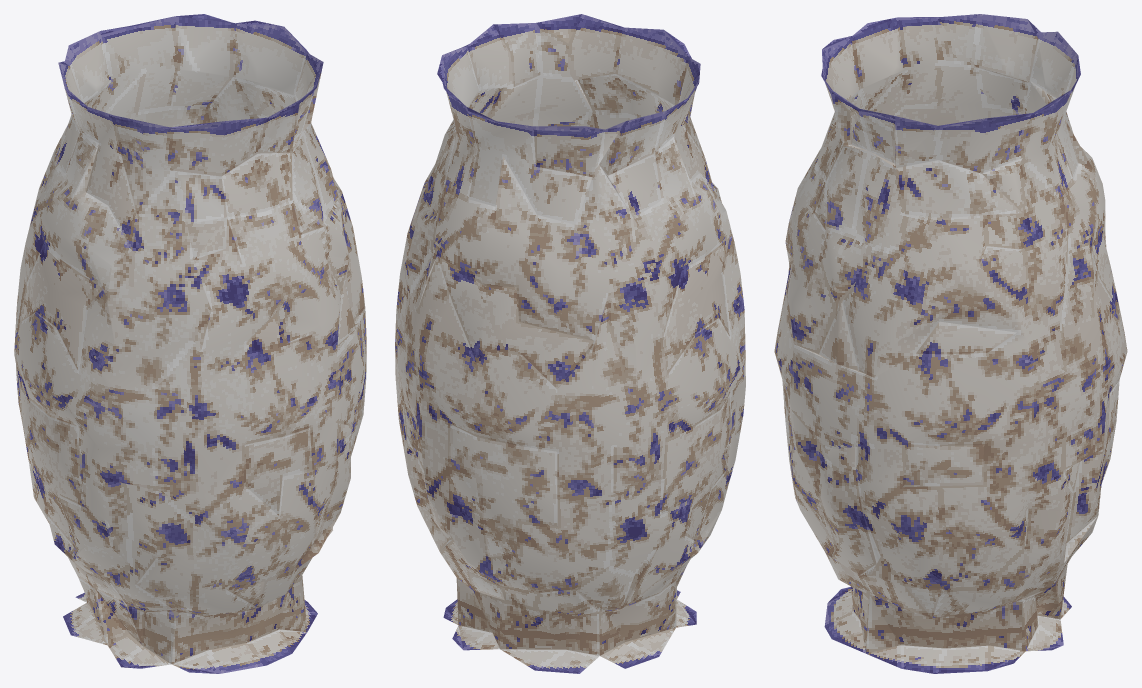
The model's file is antique_ceramic_vase_01.glb.
3 renders of one model, left to right at view 1: azimuth 30°, elevation 25°; view 2: azimuth 150°, elevation 25°; view 3: azimuth 270°, elevation 25°, orthographic.
Parts seen in each view (by area): view 1: mesh; view 2: mesh; view 3: mesh.
Part boxes in pixels (left/top/right/bottom): mesh: left=14, top=14, right=366, bottom=673; mesh: left=395, top=14, right=745, bottom=673; mesh: left=774, top=14, right=1127, bottom=673.
Bounding box in the file's own units: 20.21 × 35.16 × 20.21.
1 material, 1 textured.
